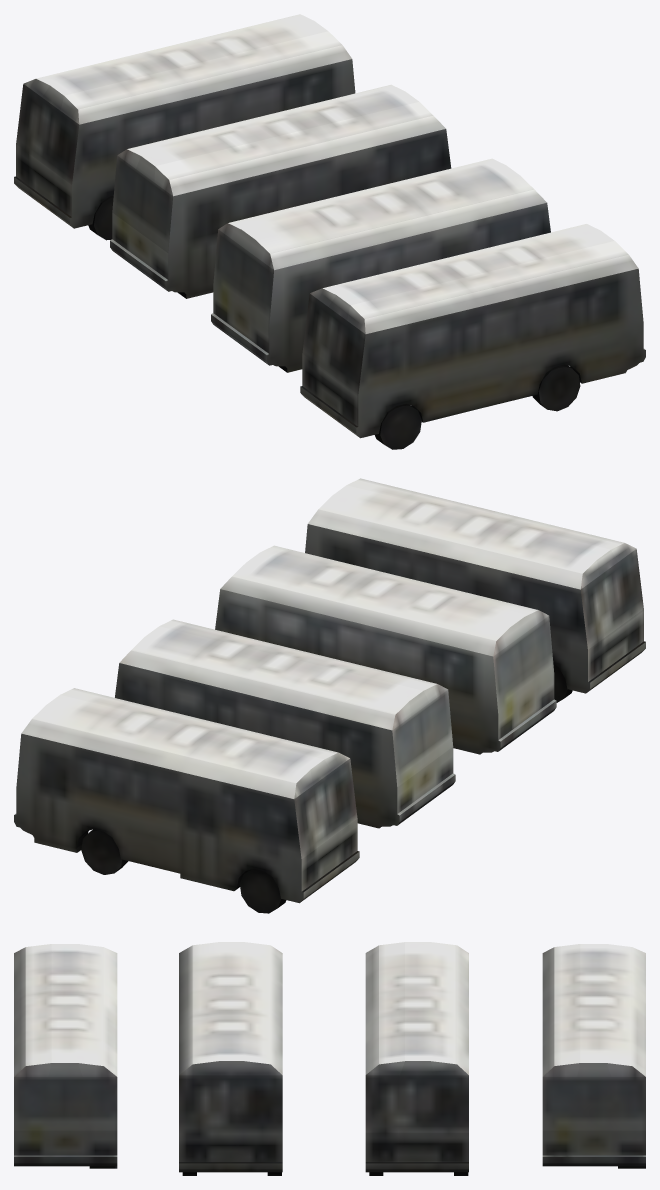
File: square_bus.fbx
3 views of the same model, one above another, from view 1: azimuth 30°, elevation 25°; view 2: azimuth 150°, elevation 25°; view 3: azimuth 270°, elevation 25° (orthographic). The views are drawn at different scales.
Visible parts, largest first — view 1: square_bus; view 2: square_bus; view 3: square_bus.
Part boxes in pixels (x1,y1,x2,y2): square_bus: (14,14,645,449); square_bus: (14,478,645,913); square_bus: (14,942,645,1175).
Size of the model in its own units: 6.01 by 2.71 by 12.31.
